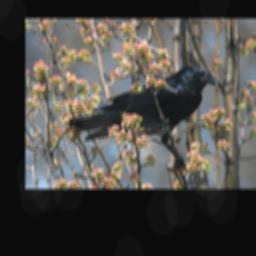Crow: (72, 63, 223, 167)
